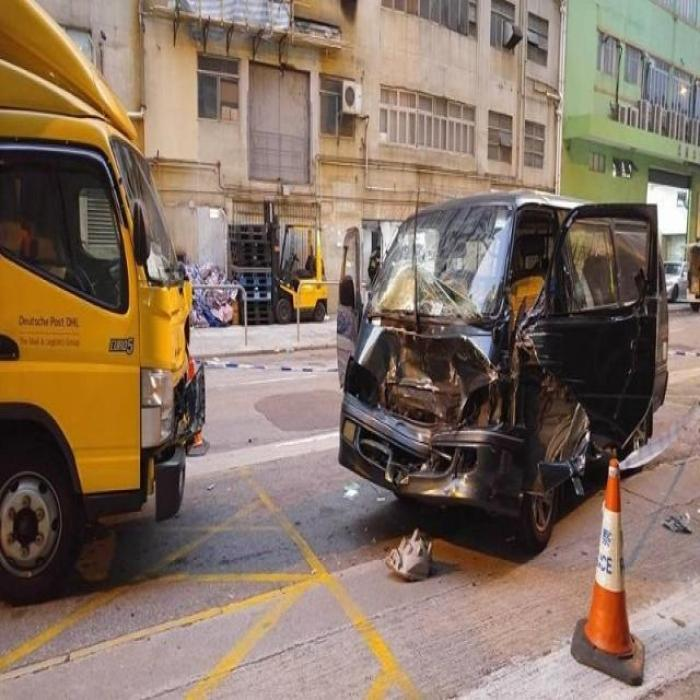Accident: (351, 198, 654, 553)
